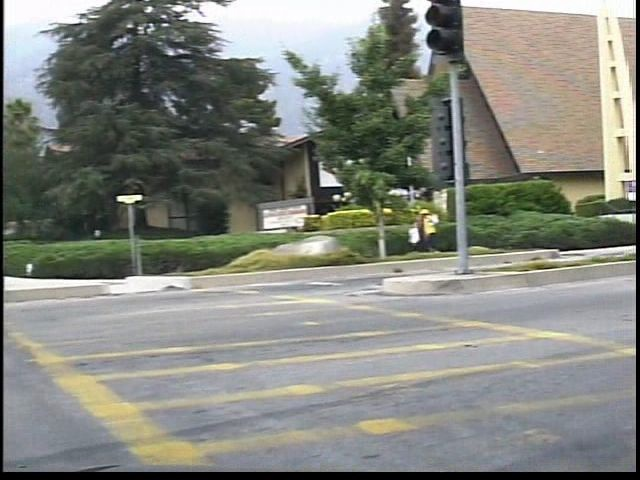person: (428, 201, 453, 256)
